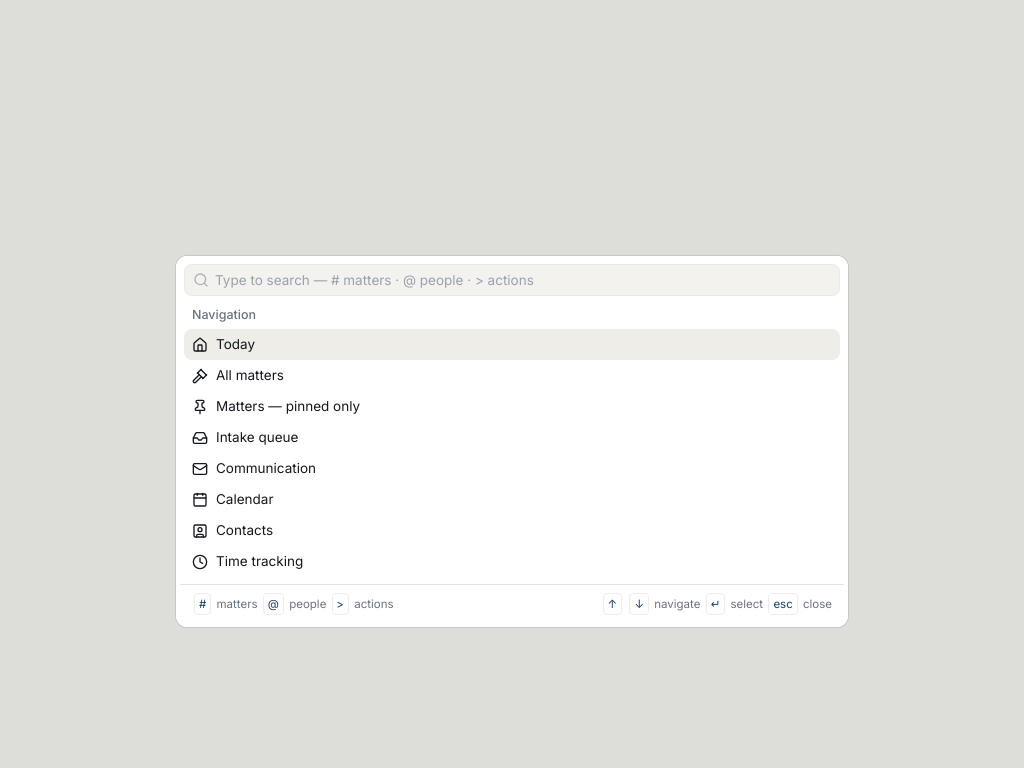
it: CommandPalette — fetch failure on open › falls back to empty data: nav stays usable, no stuck 'Loading…'
Expected: the text "All matters" is shown, x1=216 y1=366 x2=284 y2=385
In the dropdown with placeholder "Type to search — # matters · @ people · > actions": (524, 280) x1=209 y1=270 x2=839 y2=290, type "zzzz-no-such-thing"
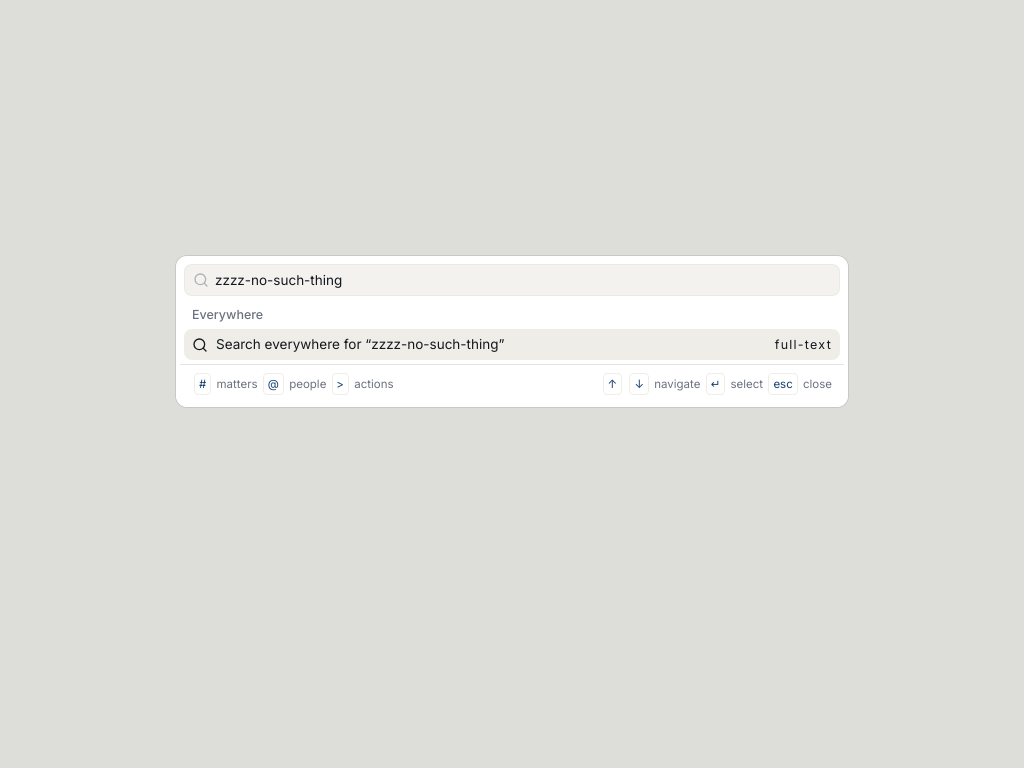
Expected: the text "Search everywhere for “zzzz-no-such-thing”" is shown, x1=216 y1=335 x2=504 y2=354
